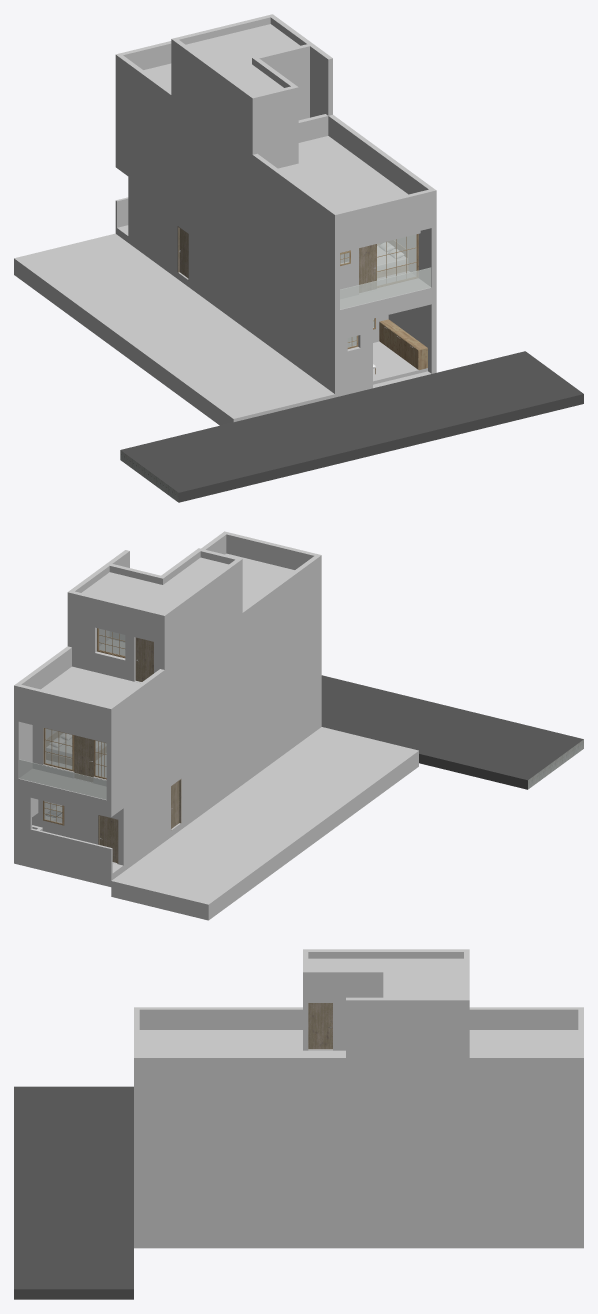
File: Bro Abbas Mpalli House new2.fbx
3 renders of one model, top to bottom at view 1: azimuth 30°, elevation 25°; view 2: azimuth 150°, elevation 25°; view 3: azimuth 270°, elevation 25°, orthographic. The views are drawn at different scales.
Visible parts, largest first — view 1: Slab, Wall, Window, Object, Door; view 2: Wall, Slab, Door, Window, Object; view 3: Wall, Slab, Door.
Boxes of the visible parts, left/top/right/bottom form: Slab: left=14, top=24, right=583, bottom=502; Wall: left=115, top=14, right=436, bottom=387; Window: left=340, top=234, right=418, bottom=348; Object: left=373, top=240, right=427, bottom=374; Door: left=177, top=226, right=376, bottom=292; Wall: left=14, top=531, right=321, bottom=874; Slab: left=14, top=553, right=583, bottom=920; Door: left=74, top=637, right=181, bottom=863; Window: left=43, top=628, right=125, bottom=825; Object: left=32, top=731, right=106, bottom=830; Wall: left=134, top=949, right=583, bottom=1234; Slab: left=14, top=958, right=583, bottom=1299; Door: left=308, top=1003, right=332, bottom=1049.
Size of the model in its own units: 19.49 by 11.58 by 23.16.
Materials: 19 (7 with a texture image).
